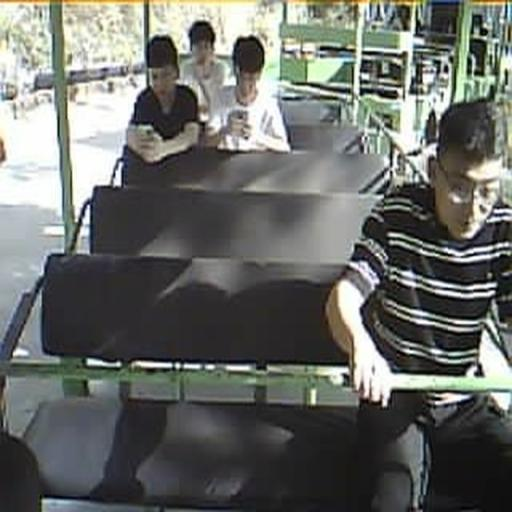persona: (324, 96, 511, 510), (206, 34, 292, 154), (124, 33, 200, 166), (178, 19, 228, 124)
